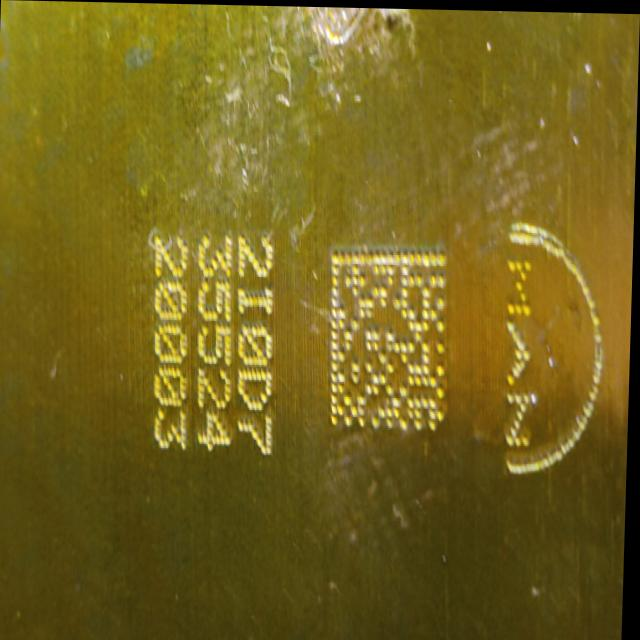dmc: (331, 249, 446, 429)
